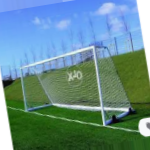goals: (18, 44, 134, 126)
